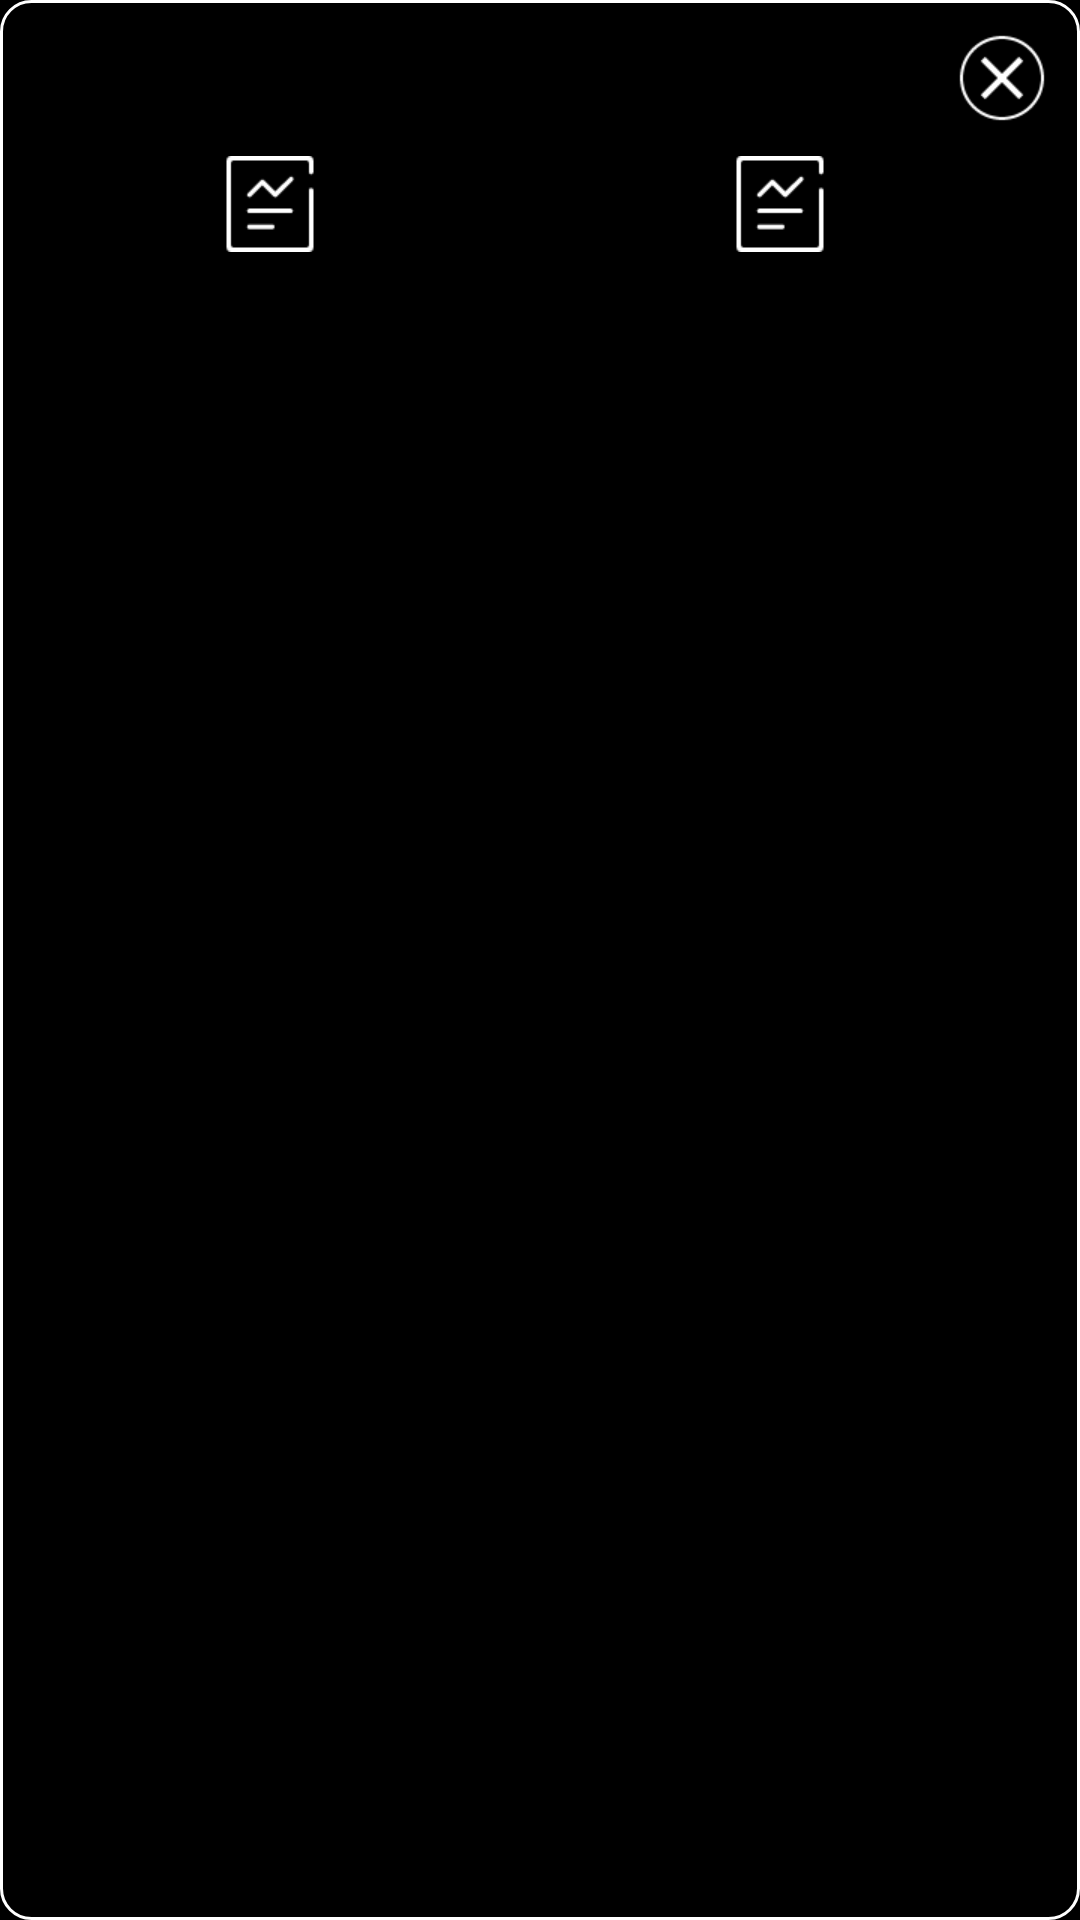

Icon click points for this 1080 × 1920 phone screenshot, format (x,y):
close: (1002,78)
